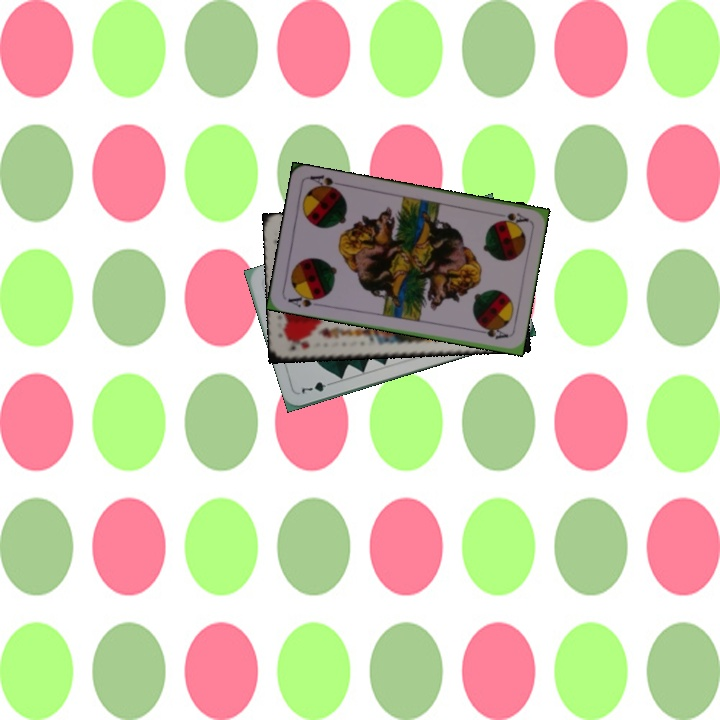G7: (297, 377, 337, 396)
HK: (287, 337, 312, 353)
SA: (284, 289, 325, 310), (494, 209, 531, 227)
